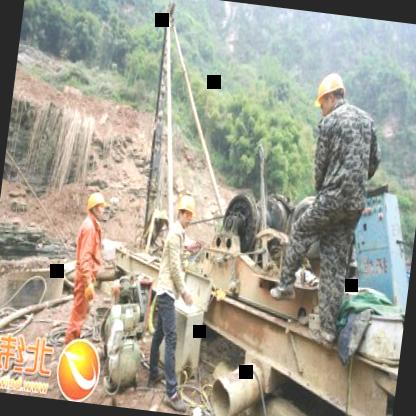helmet: (311, 66, 349, 122), (81, 186, 108, 228), (173, 191, 198, 232)
